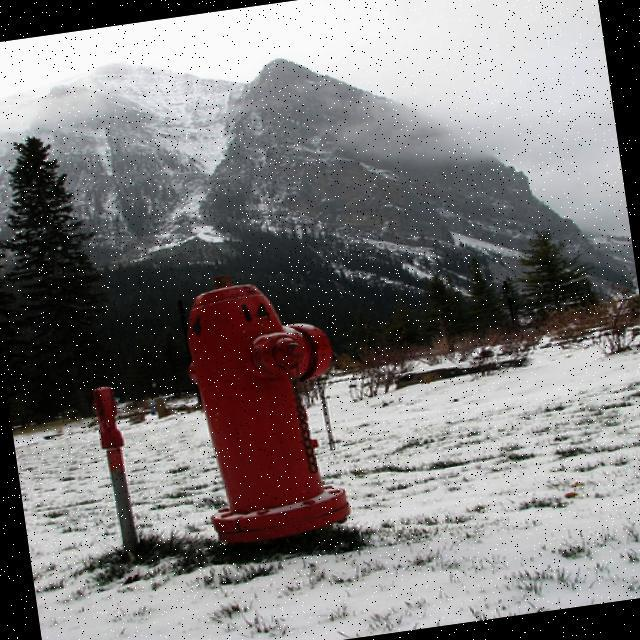fire_hydrant: (165, 275, 358, 555)
